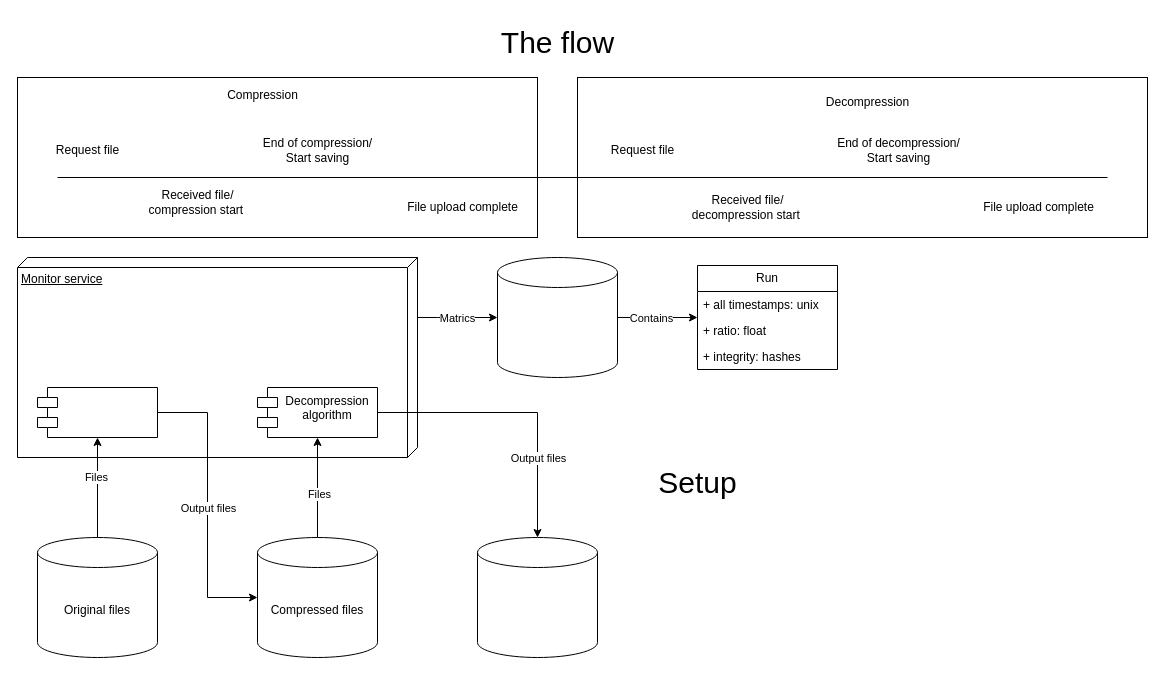
This 1165x675 diagram has some shape labels left out. The centre of each missing label's shape, as x and y in pixels:
"Compression algorithm" goes at pixel 97 412.
"Decompressed files" goes at pixel 537 597.
"TimescaleDB" goes at pixel 557 317.
